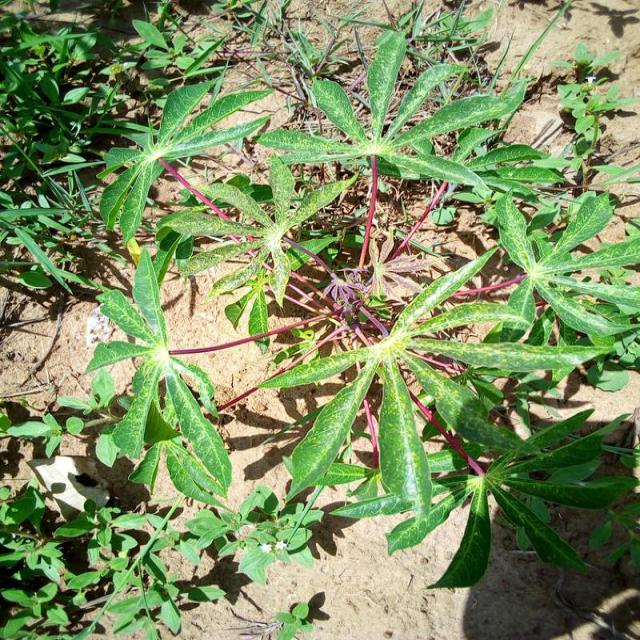cassava leaf: (85, 14, 638, 592)
